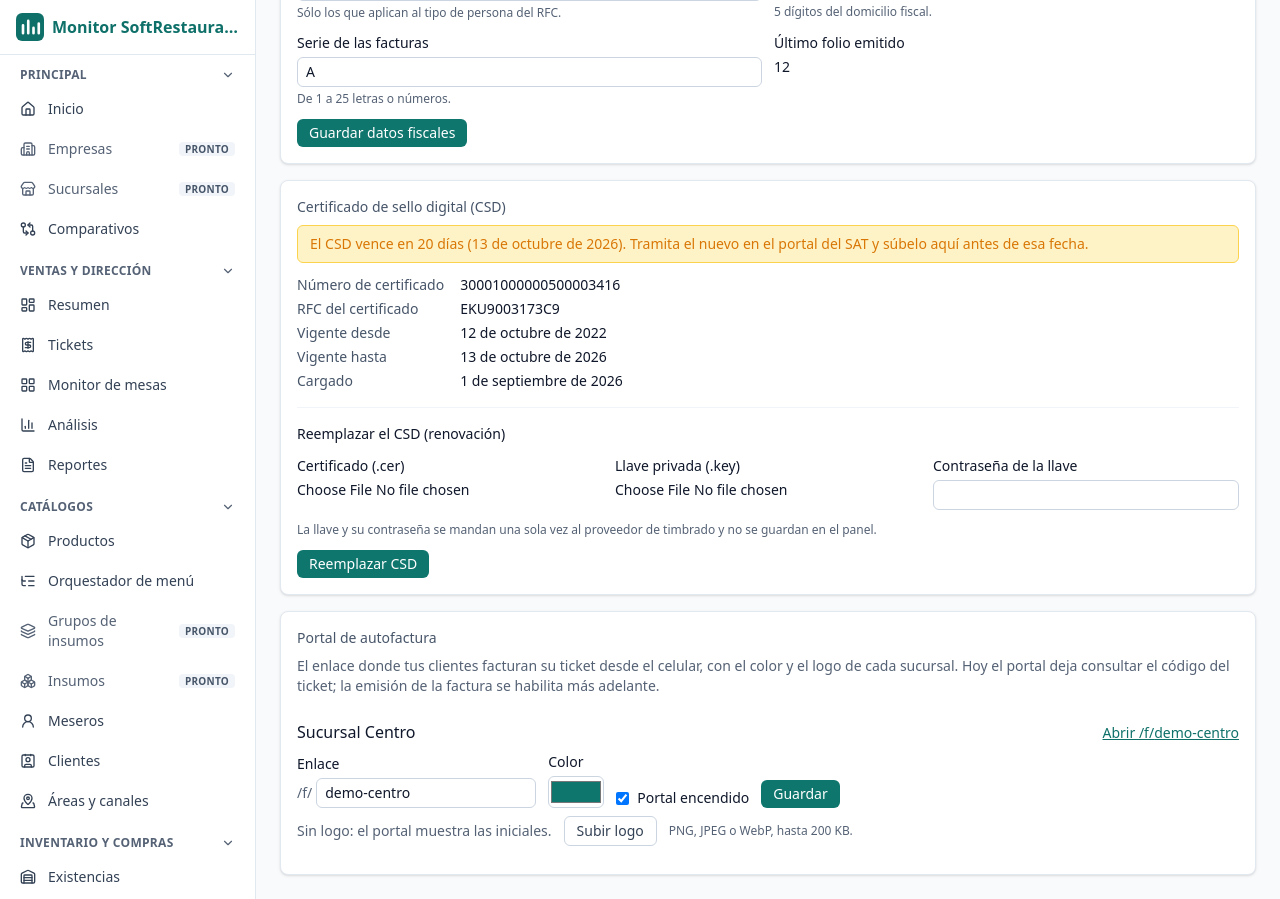
Scenario: portal de autofactura (F2-103) › un enlace inválido se marca sin ir al api; el 409 del api se muestra tal cual
(page scrolled)
Replace the text in the field labelled "Enlace" with "ab" at (426, 793), box [316,778,536,808]
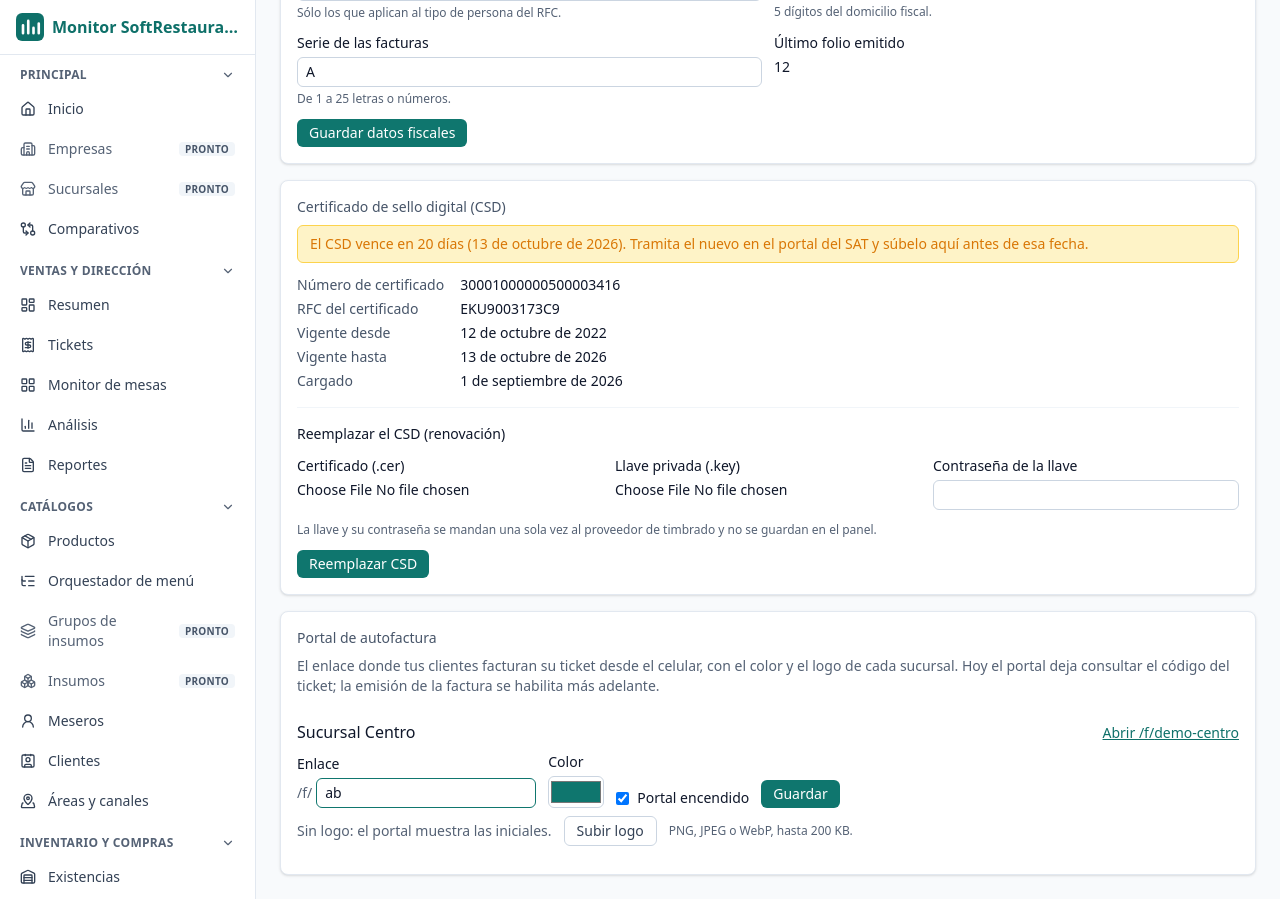
Click the button "Guardar".
click(800, 794)  # box [761,780,840,808]
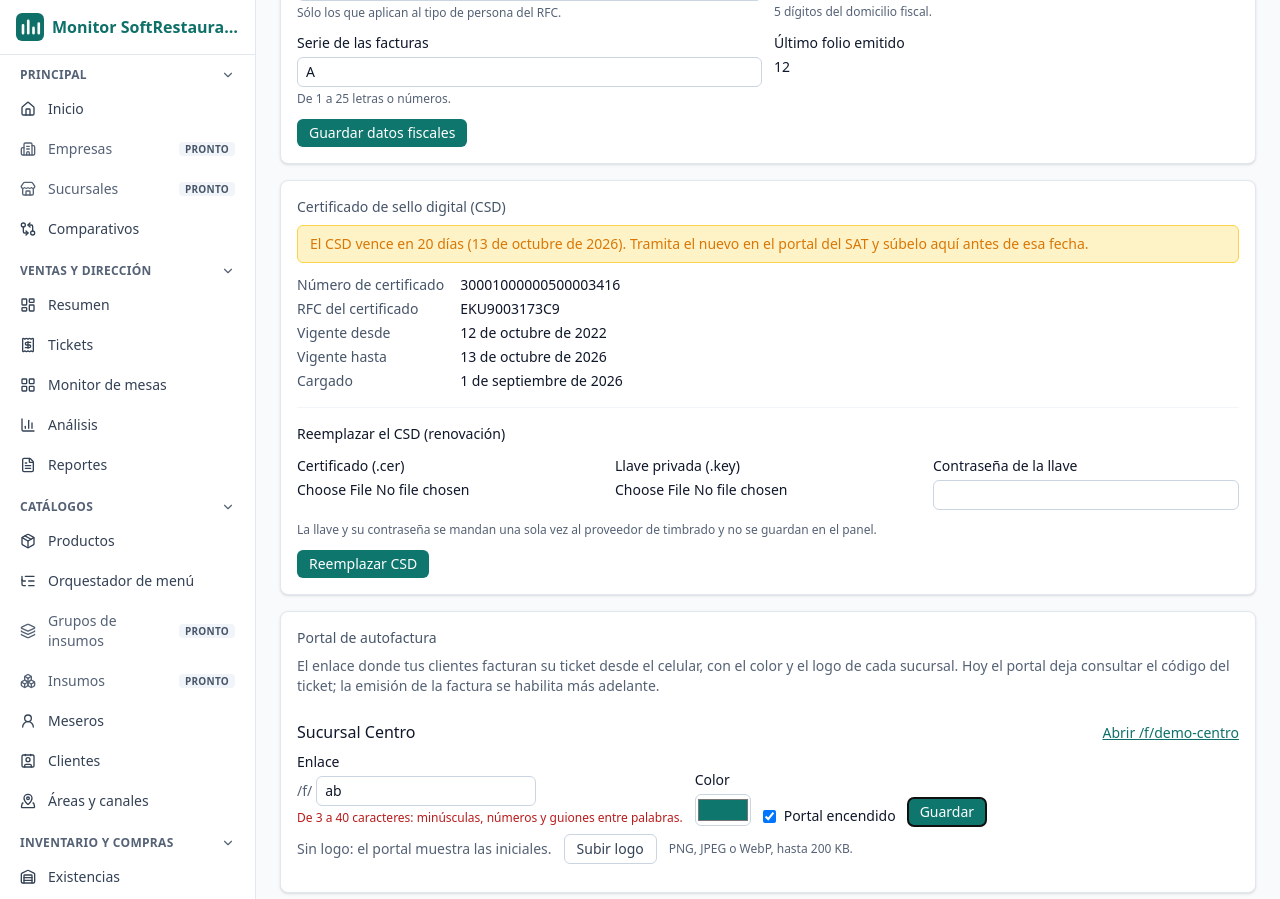
Expected: the field labelled "Enlace" is marked as invalid
Type "c-ocupado" into the field labelled "Enlace".
click(426, 791); type("c-ocupado")  # box [316,776,536,806]
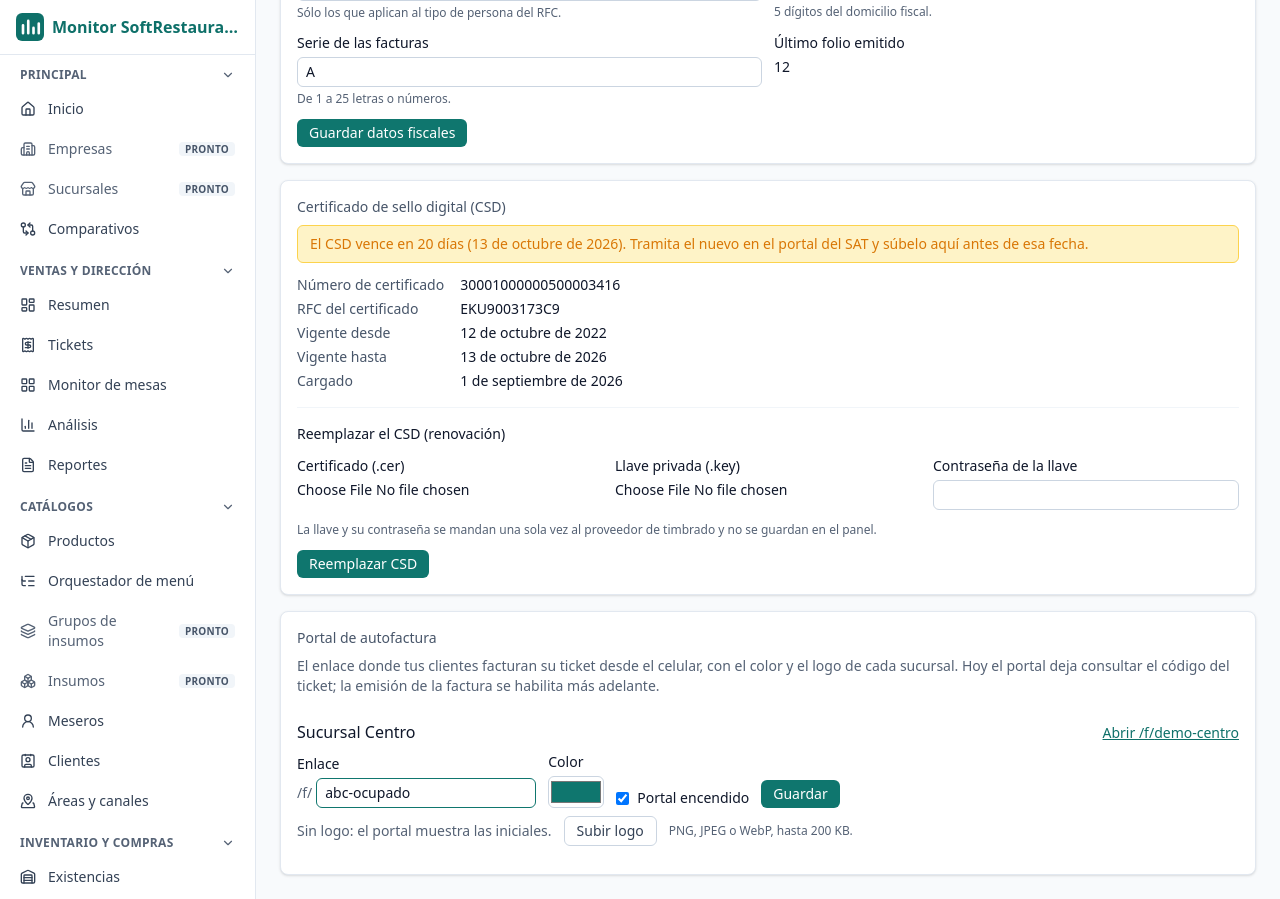
Click the button "Guardar".
click(800, 794)  # box [761,780,840,808]
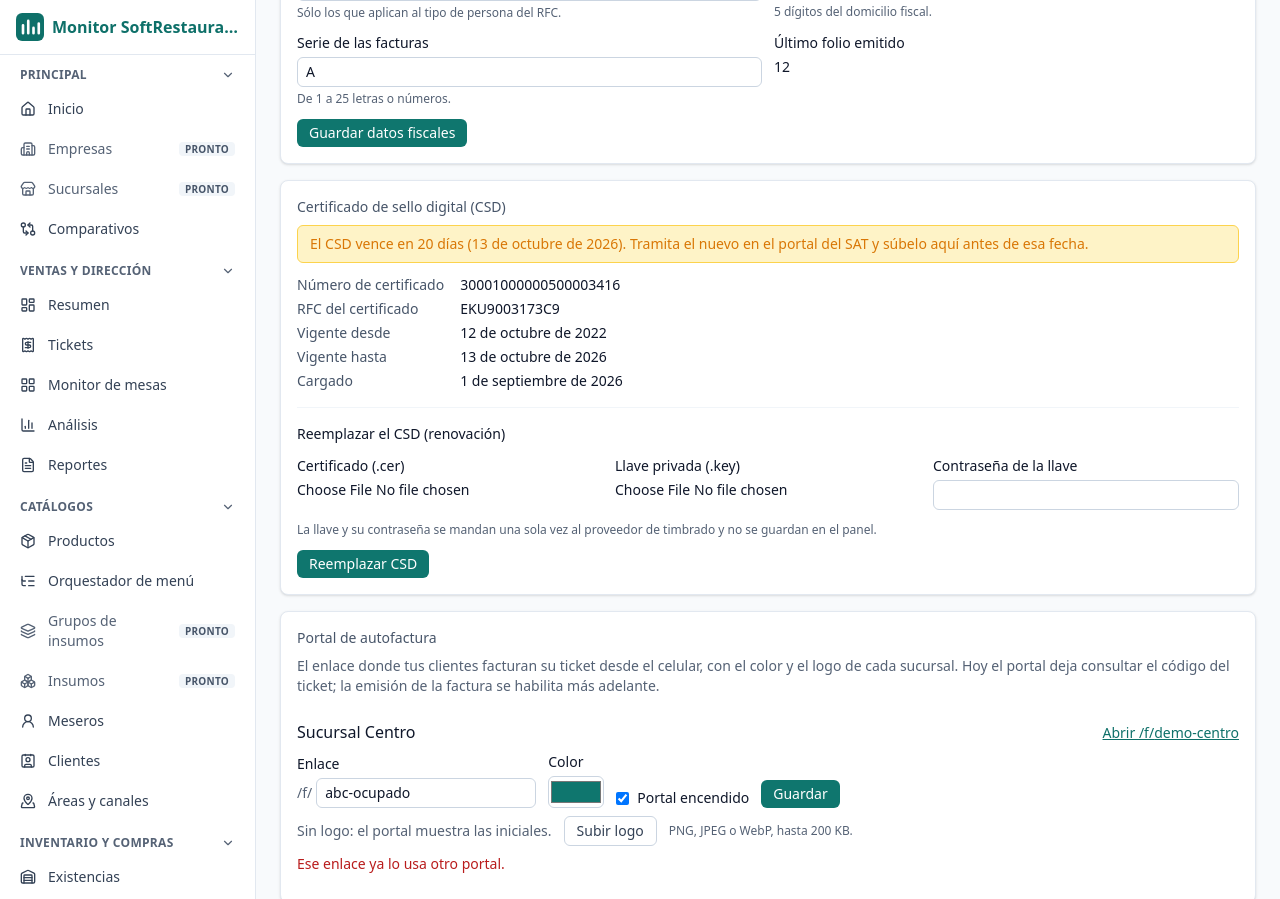
Expected: the message "Ese enlace ya lo usa otro portal." is shown, [297,854,505,873]
